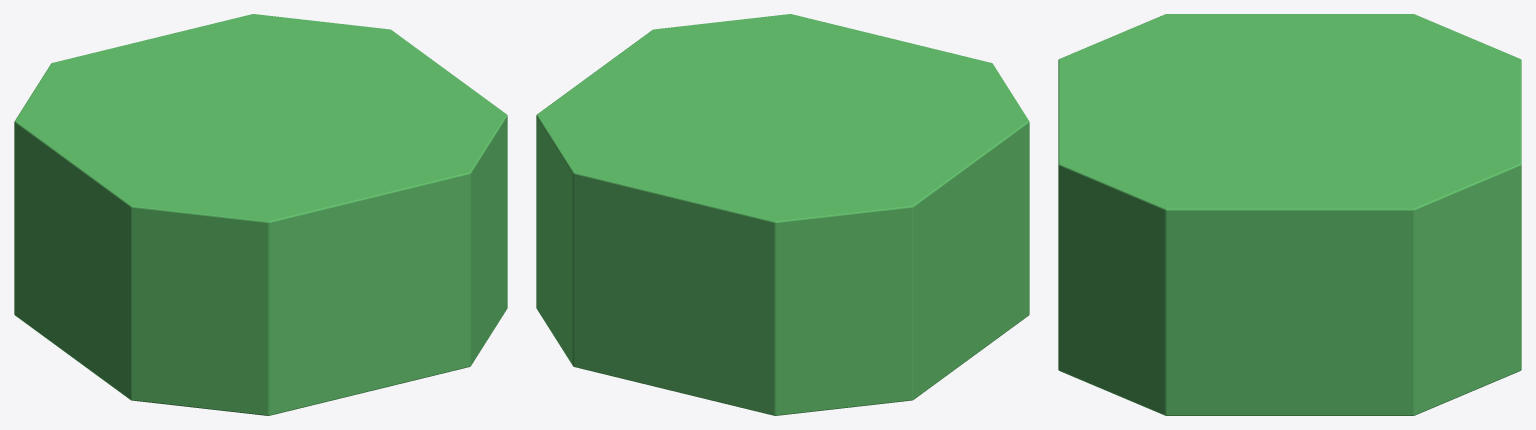
Rendered from fortress_wallwalk_corner_outer_occluder.glb.
3 views of the same model, side by side, from view 1: azimuth 30°, elevation 25°; view 2: azimuth 150°, elevation 25°; view 3: azimuth 270°, elevation 25° (orthographic). The views are drawn at different scales.
Parts seen in each view (by area): view 1: fortress_wallwalk_corner_outer-occluder; view 2: fortress_wallwalk_corner_outer-occluder; view 3: fortress_wallwalk_corner_outer-occluder.
Boxes of the visible parts, <box> form: fortress_wallwalk_corner_outer-occluder: <box>14,14,507,415</box>; fortress_wallwalk_corner_outer-occluder: <box>536,14,1029,415</box>; fortress_wallwalk_corner_outer-occluder: <box>1058,14,1521,415</box>.
Bounding box in the file's own units: 6.12 × 3.02 × 6.12.
